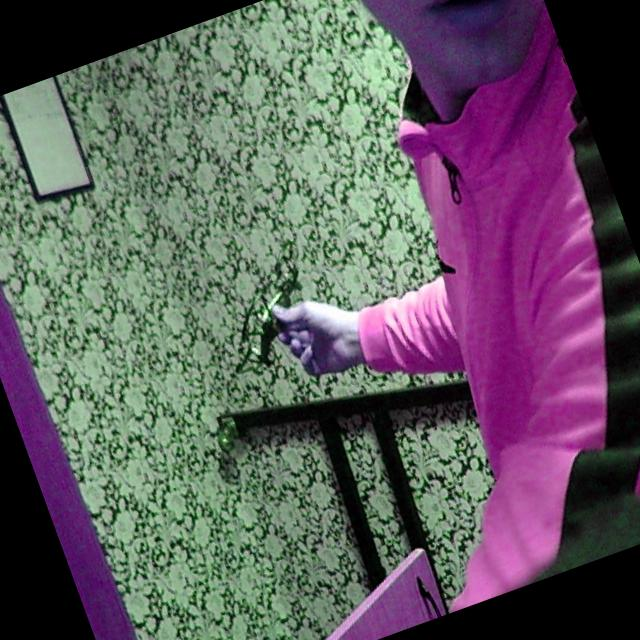drone: (188, 235, 344, 383)
